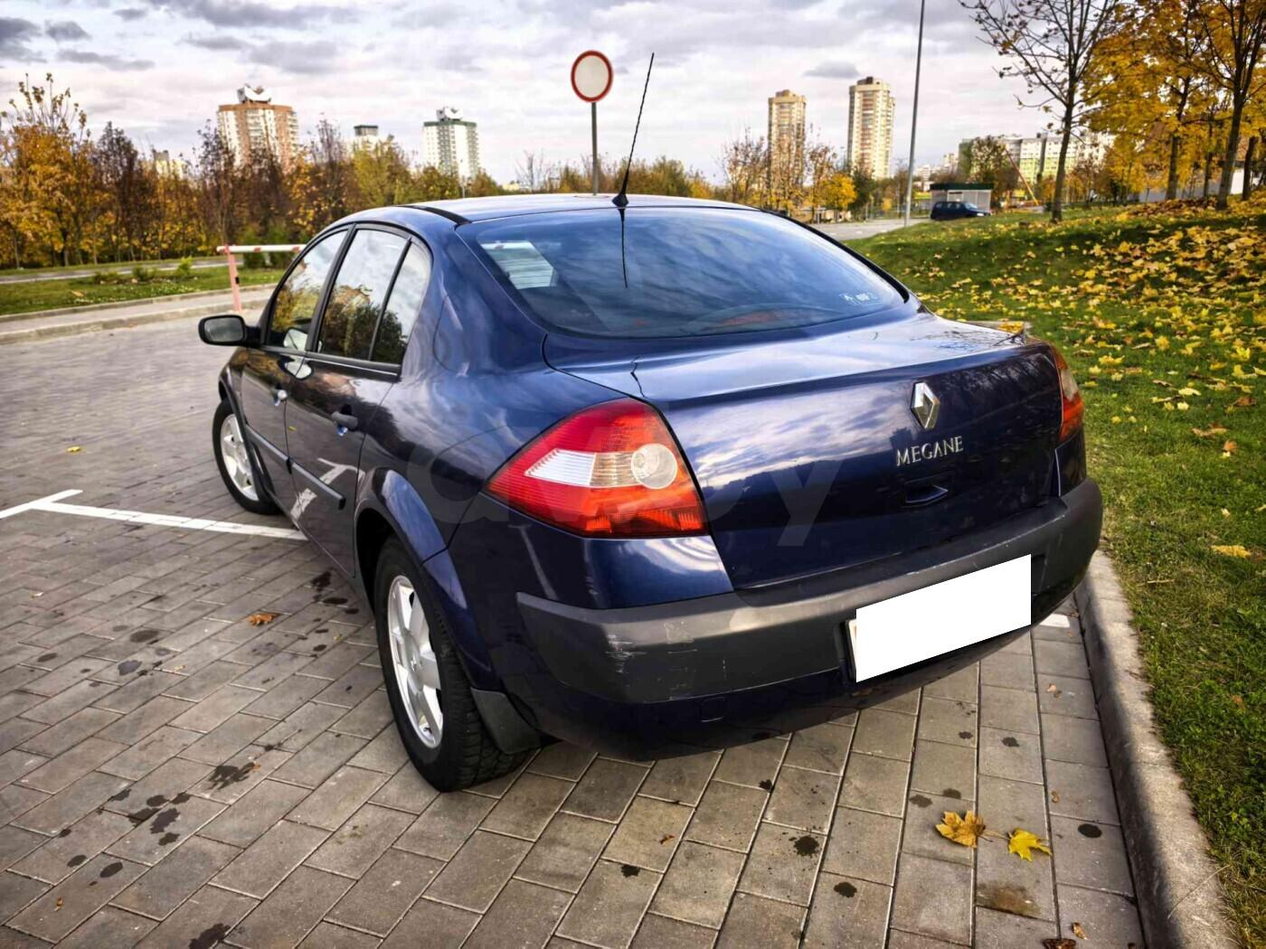Megane_2002-2006: (208, 189, 1102, 803)
